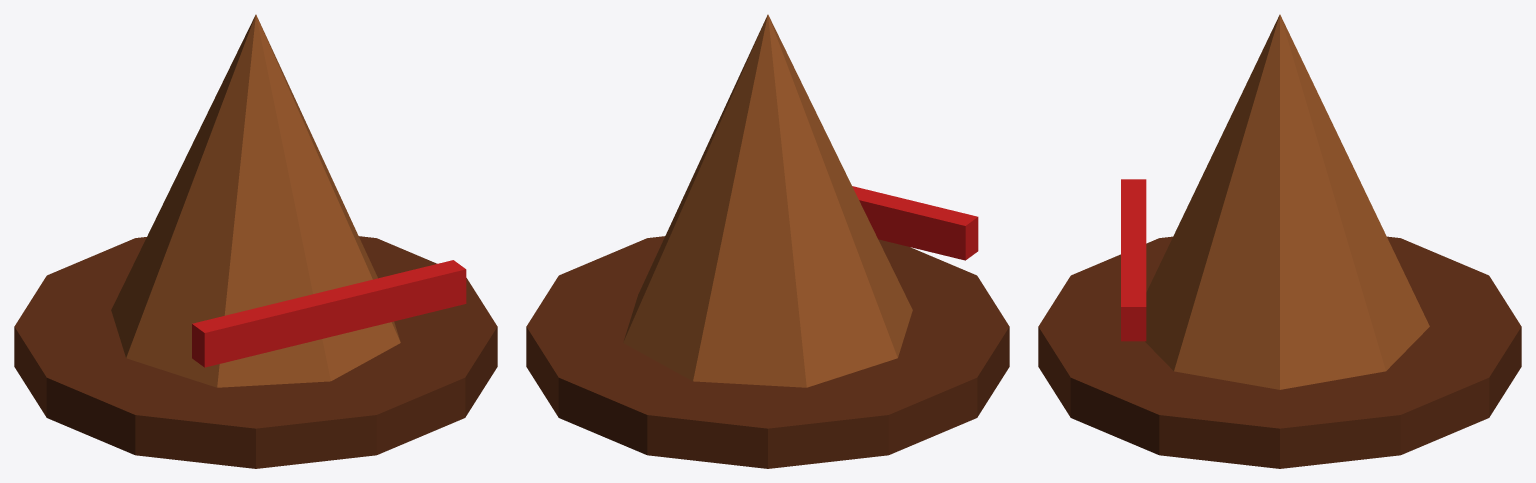
File: adventurer_hat.obj
3 renders of one model, left to right at view 1: azimuth 30°, elevation 25°; view 2: azimuth 150°, elevation 25°; view 3: azimuth 270°, elevation 25°, orthographic.
Parts seen in each view (by area): view 1: models/equipment/adventurer_hat.obj; view 2: models/equipment/adventurer_hat.obj; view 3: models/equipment/adventurer_hat.obj.
Part boxes in pixels (bbox=[...]): models/equipment/adventurer_hat.obj: bbox=[14, 14, 497, 468]; models/equipment/adventurer_hat.obj: bbox=[526, 14, 1009, 468]; models/equipment/adventurer_hat.obj: bbox=[1038, 14, 1521, 468].
Size of the model in its own units: 1.52 by 1.23 by 1.52.
